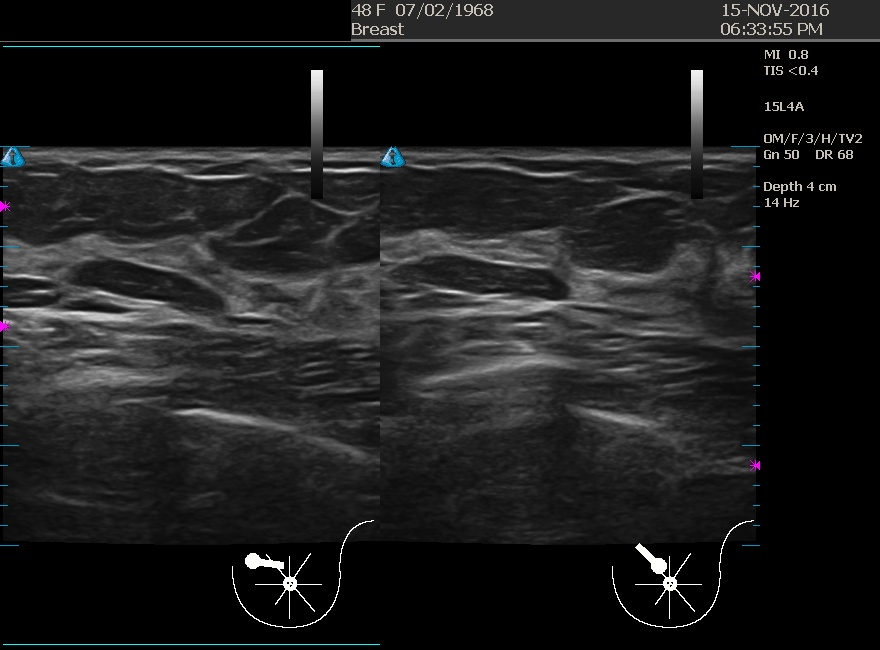BIRADS_3: (47, 191, 239, 383), (385, 186, 577, 378)
